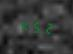five: (30, 19, 40, 34)
four: (18, 18, 28, 33)
two: (41, 20, 51, 34)
